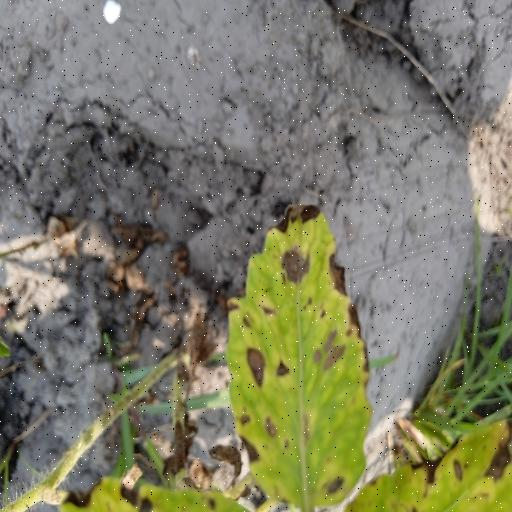Tomato_Brown_Spots: (219, 195, 372, 512)
